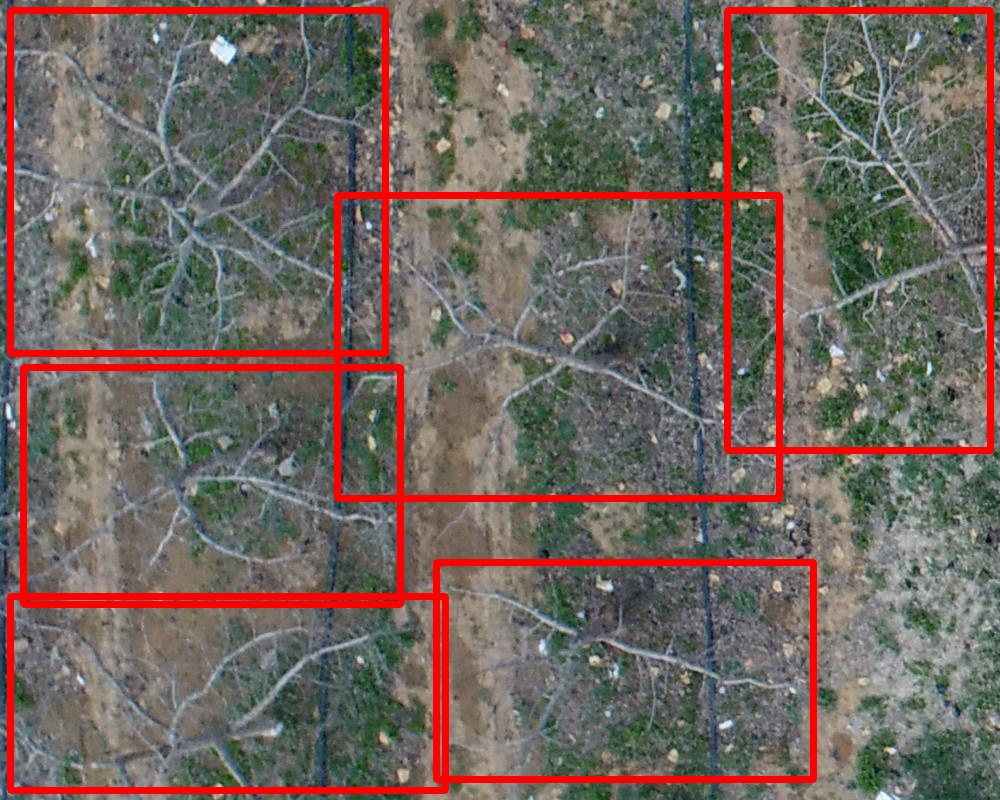apple: (337, 195, 779, 498), (10, 10, 385, 353), (727, 10, 990, 450), (23, 367, 400, 604), (10, 596, 445, 790), (436, 562, 813, 779)
